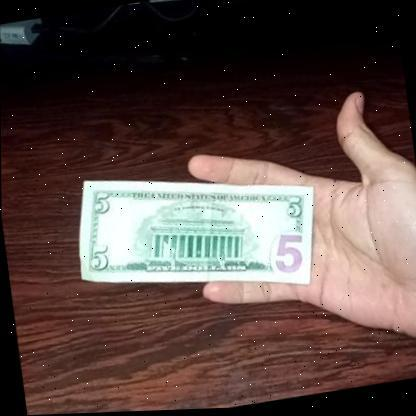five-back: (67, 141, 326, 320)
